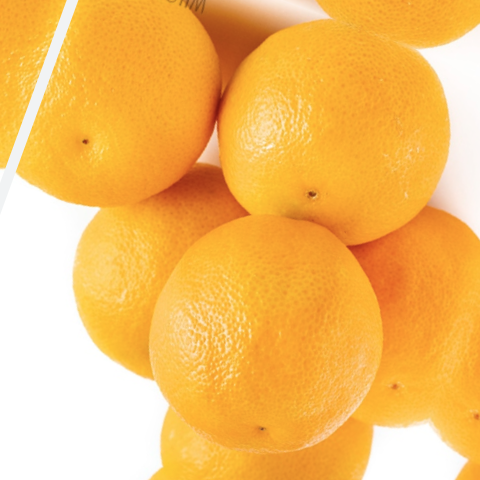orange: (104, 176, 426, 480), (151, 0, 480, 285), (0, 0, 260, 278)
